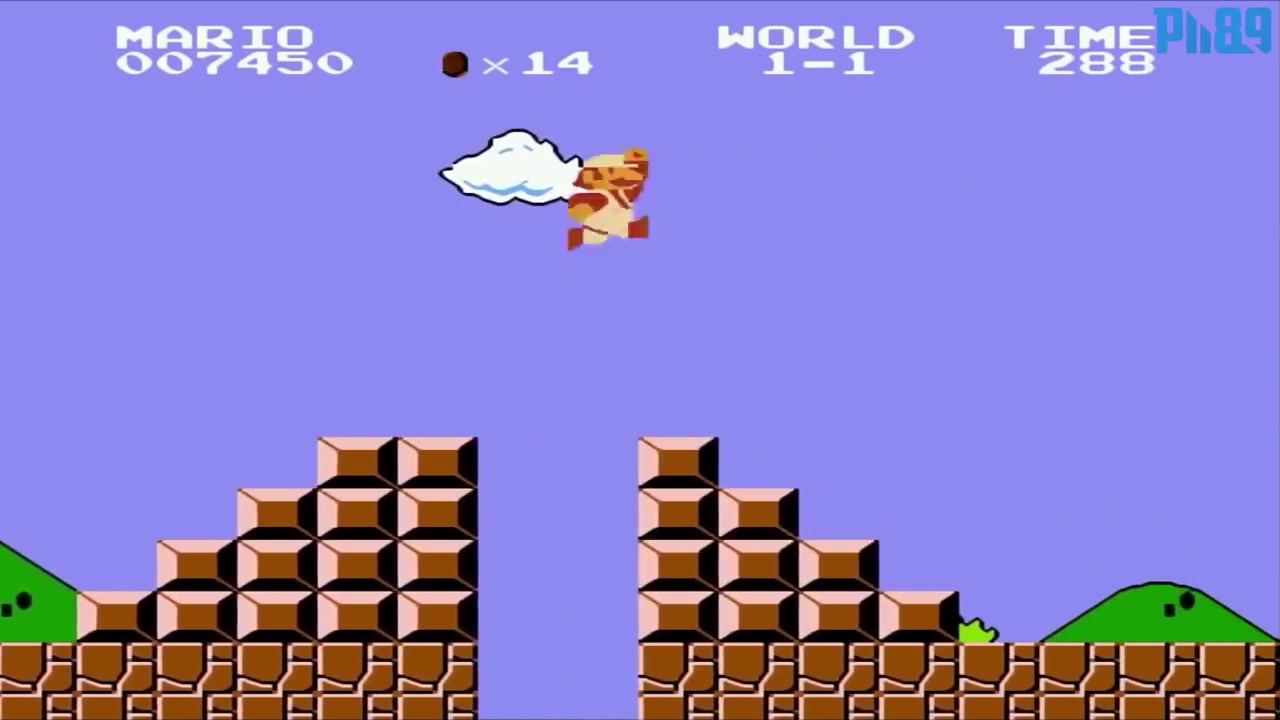mario: (566, 145, 665, 265)
